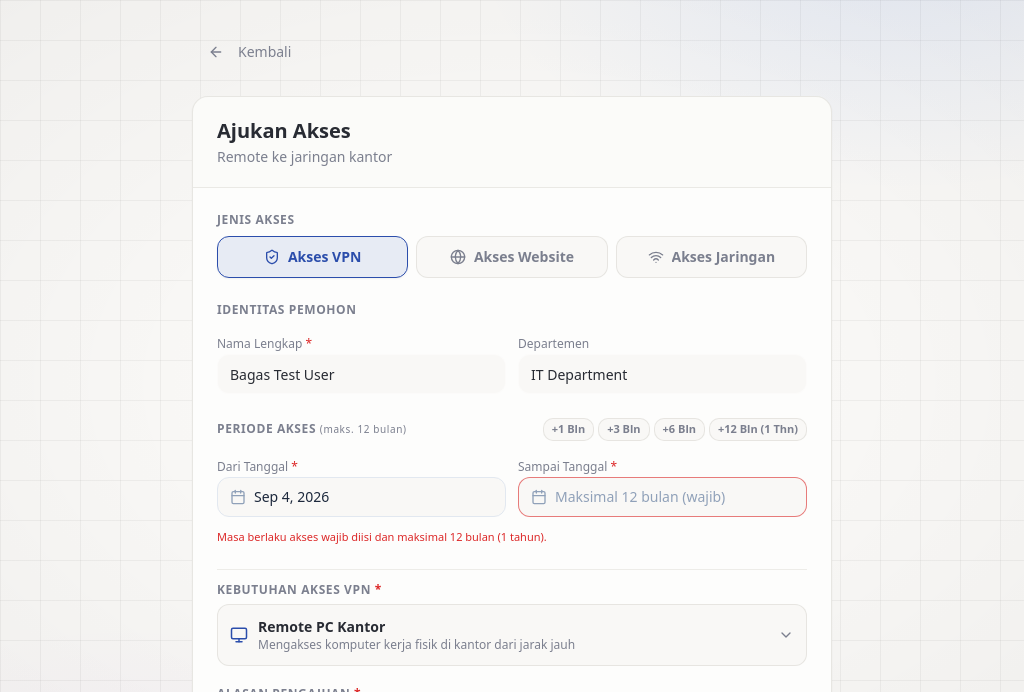
EformAccessCreatePage › switches templates when switching to Website access
// Click Akses Website
Click the button "Akses Website": coordinates (512, 257) [416,236,608,278]
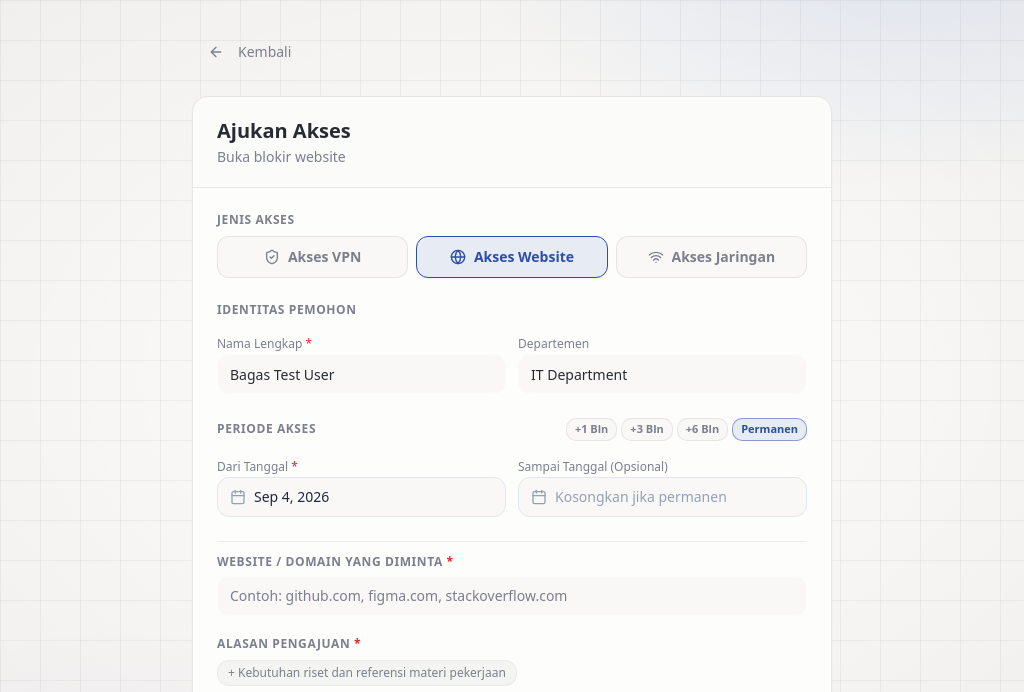
Check: the button "+ Kebutuhan riset dan referensi materi pekerjaan" is shown, box [217,660,517,686]
Check: the field with placeholder "Contoh: github.com, figma.com, stackoverflow.com" is shown, box [217,576,807,616]
